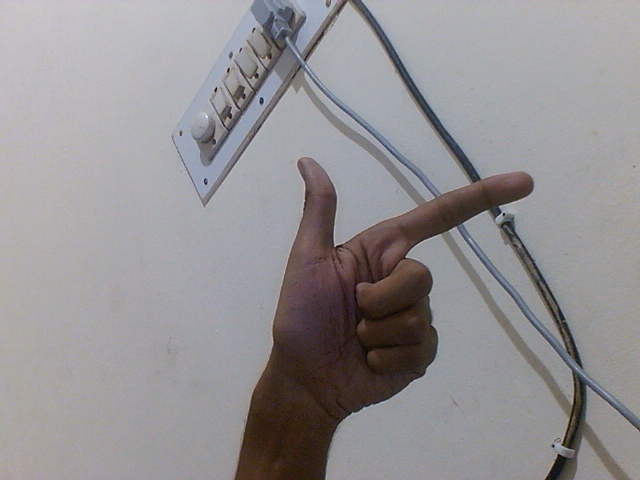hand: (269, 152, 541, 429)
